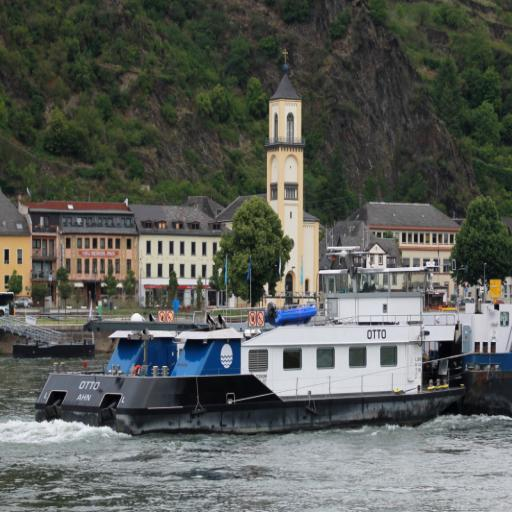tugboat: (34, 242, 474, 451)
